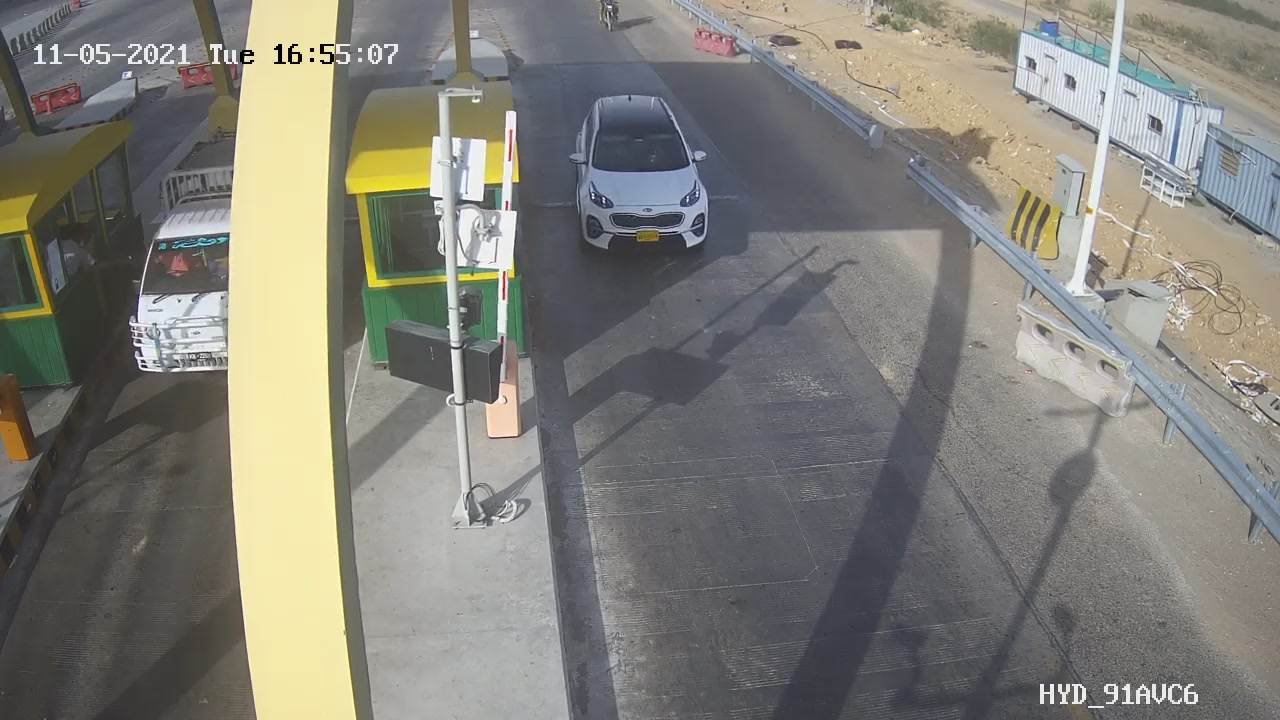F1: (556, 81, 731, 272)
